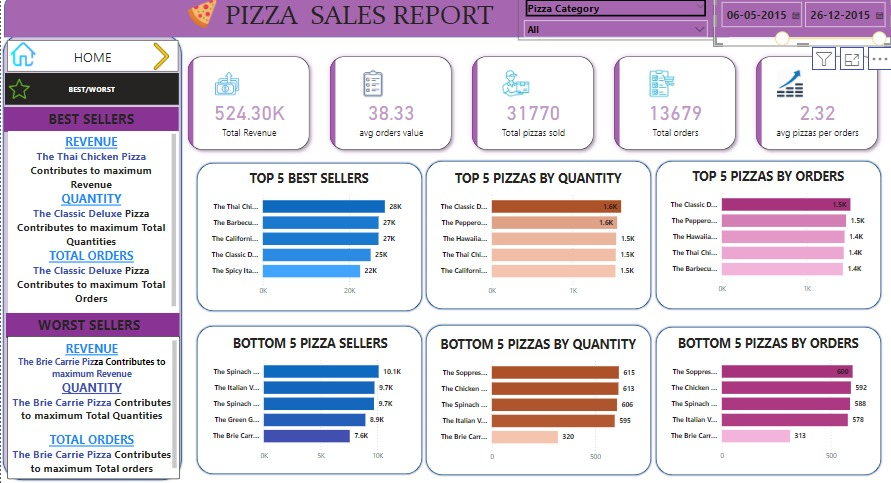

What the dashboard file says about the page in this screenshot:
{"tool":"powerbi","page":{"name":"BEST/WORST","canvas":[1614,890],"ordinal":1},"visuals":[{"type":"cardVisual","fields":{"Data":["pizza_sales.Total Revenue","pizza_sales.avg orders value","pizza_sales.Total pizzas sold","pizza_sales.Total orders","pizza_sales.avg pizzas per orders"]},"box":[321.4,75,1283.9,241.1],"z":0},{"type":"shape","box":[0,64.3,330.4,814.3],"z":1000},{"type":"shape","box":[5.4,0,1608.9,75],"z":2000},{"type":"textbox","box":[330.4,0,633.9,107.1],"z":3000},{"type":"image","box":[321.4,0,83.9,64.3],"z":4000},{"type":"shape","box":[351.8,298.2,414.3,275],"z":5000},{"type":"textbox","box":[5.4,200,316.1,44.6],"z":6000},{"type":"textbox","box":[12.5,244.6,308.9,328.6],"z":7000},{"type":"textbox","box":[8.9,573.2,314.3,44.6],"z":8000},{"type":"textbox","box":[10.7,614.3,312.5,258.9],"z":9000},{"type":"slicer","fields":{"Values":["pizza_sales.pizza_category"]},"box":[935.7,0,353.6,80.4],"z":10000},{"type":"slicer","fields":{"Values":["pizza_sales.order_date"]},"box":[1289.3,0,325,91.1],"z":11000},{"type":"shape","box":[766.1,294.6,414.3,275],"z":12000},{"type":"shape","box":[1180.4,294.6,414.3,275],"z":13000},{"type":"shape","box":[351.8,592.9,414.3,275],"z":14000},{"type":"shape","box":[766.1,591.1,414.3,278.6],"z":15000},{"type":"shape","box":[1182.1,594.6,414.3,275],"z":16000},{"type":"barChart","title":"TOP 5 BEST SELLERS","fields":{"Category":["pizza_sales.pizza_name"],"Y":["pizza_sales.Total Revenue"]},"box":[364.3,314.3,387.5,235.7],"z":17000},{"type":"barChart","title":"BOTTOM 5 PIZZA SELLERS","fields":{"Category":["pizza_sales.pizza_name"],"Y":["pizza_sales.Total Revenue"]},"box":[366.1,612.5,387.5,235.7],"z":18000},{"type":"barChart","title":"TOP 5 PIZZAS BY QUANTITY","fields":{"Category":["pizza_sales.pizza_name"],"Y":["pizza_sales.Total pizzas sold"]},"box":[778.6,314.3,387.5,235.7],"z":19000},{"type":"barChart","title":"BOTTOM 5 PIZZAS BY QUANTITY","fields":{"Category":["pizza_sales.pizza_name"],"Y":["pizza_sales.Total pizzas sold"]},"box":[778.6,614.3,387.5,235.7],"z":20000},{"type":"barChart","title":"TOP 5 PIZZAS BY ORDERS","fields":{"Category":["pizza_sales.pizza_name"],"Y":["pizza_sales.Total orders"]},"box":[1194.6,310.7,387.5,235.7],"z":21000},{"type":"barChart","title":"BOTTOM 5 PIZZAS BY ORDERS","fields":{"Category":["pizza_sales.pizza_name"],"Y":["pizza_sales.Total orders"]},"box":[1194.6,612.5,387.5,235.7],"z":22000},{"type":"pageNavigator","box":[10.7,80.4,310.7,57.1],"z":23000},{"type":"pageNavigator","box":[7.1,139.3,314.3,57.1],"z":24000},{"type":"image","box":[12.5,78.6,55.4,55.4],"z":25000},{"type":"image","box":[8.9,133.9,48.2,67.9],"z":26000},{"type":"image","box":[258.9,80.4,62.5,58.9],"z":27000}]}

Visuals, with their boxes in screenshot pixels (x1, y1, x2, y2), scaled from the page's 1614x890 canvas onto the 891x483 screenshot:
cardVisual - pizza_sales.Total Revenue x pizza_sales.avg orders value: crop(177, 41, 886, 172)
shape: crop(0, 35, 182, 477)
shape: crop(3, 0, 890, 41)
textbox: crop(182, 0, 532, 58)
image: crop(177, 0, 224, 35)
shape: crop(194, 162, 423, 311)
textbox: crop(3, 109, 177, 133)
textbox: crop(7, 133, 177, 311)
textbox: crop(5, 311, 178, 335)
textbox: crop(6, 333, 178, 474)
slicer - pizza_sales.pizza_category: crop(517, 0, 712, 44)
slicer - pizza_sales.order_date: crop(712, 0, 890, 49)
shape: crop(423, 160, 652, 309)
shape: crop(652, 160, 880, 309)
shape: crop(194, 322, 423, 471)
shape: crop(423, 321, 652, 472)
shape: crop(653, 323, 881, 472)
"TOP 5 BEST SELLERS" barChart: crop(201, 171, 415, 298)
"BOTTOM 5 PIZZA SELLERS" barChart: crop(202, 332, 416, 460)
"TOP 5 PIZZAS BY QUANTITY" barChart: crop(430, 171, 644, 298)
"BOTTOM 5 PIZZAS BY QUANTITY" barChart: crop(430, 333, 644, 461)
"TOP 5 PIZZAS BY ORDERS" barChart: crop(659, 169, 873, 297)
"BOTTOM 5 PIZZAS BY ORDERS" barChart: crop(659, 332, 873, 460)
pageNavigator: crop(6, 44, 177, 75)
pageNavigator: crop(4, 76, 177, 107)
image: crop(7, 43, 37, 73)
image: crop(5, 73, 32, 110)
image: crop(143, 44, 177, 76)
